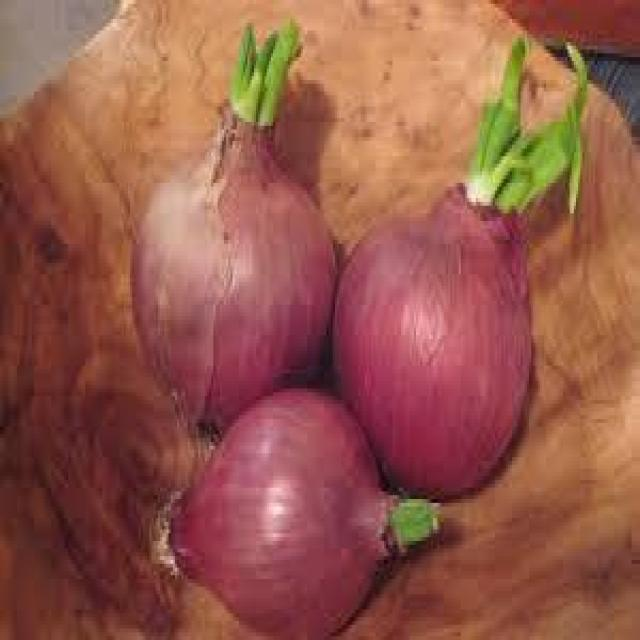Onion: (331, 179, 563, 499), (131, 99, 334, 457), (150, 385, 407, 640), (466, 36, 588, 215), (229, 19, 302, 126), (392, 501, 442, 550)
